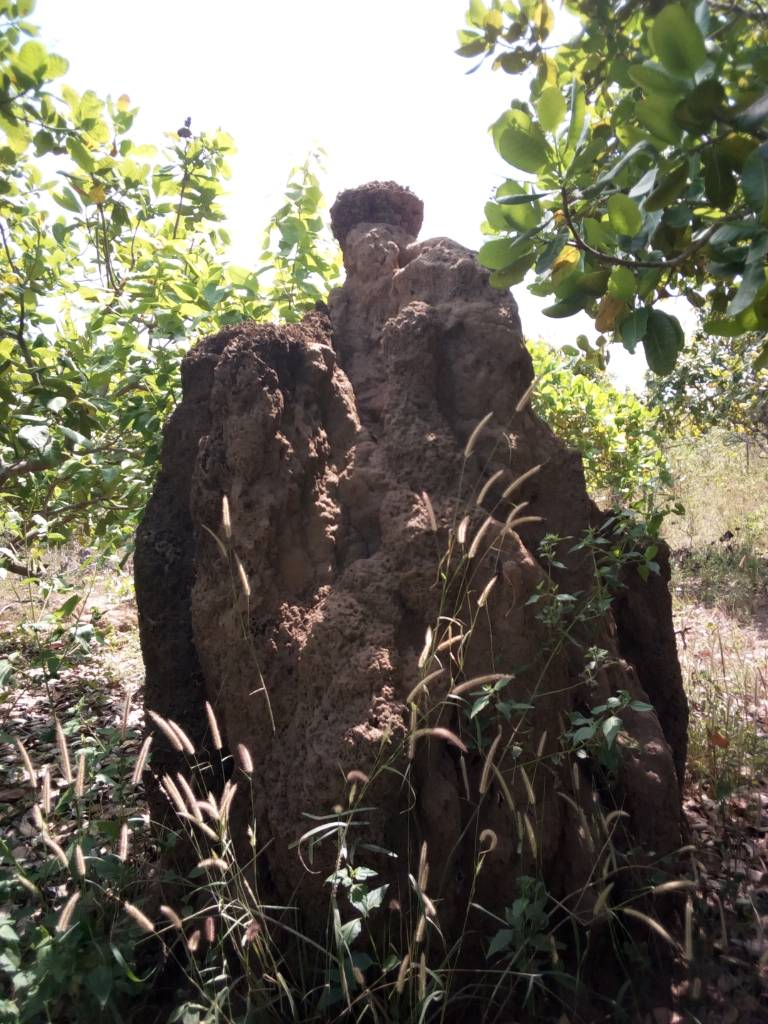Termites: (222, 321, 524, 880), (133, 333, 207, 778), (341, 188, 496, 327)
